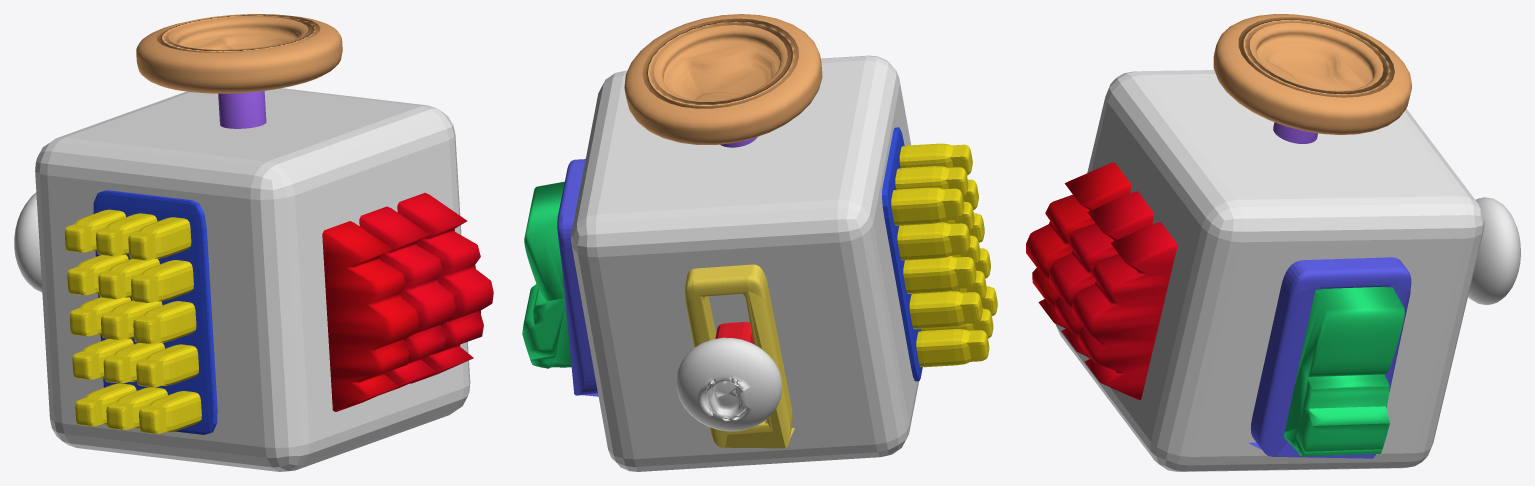
File: sole.glb
3 renders of one model, left to right at view 1: azimuth 30°, elevation 25°; view 2: azimuth 150°, elevation 25°; view 3: azimuth 270°, elevation 25°, orthographic. The views are drawn at different scales.
Visible parts, largest first — view 1: Roundcube, Cylinder.003, Cube.005, Cube.008, Cube.006, Cube.004, Cube.007, Cube.016, Cube.013, Cube.019, Cube.020, Sphere (+11 smaller); view 2: Roundcube, Cylinder.003, Sphere, Cube.025, Cube.002, Cube.001, Cube.008, Cube.010, Cube.022, Cube.017, Cube.011, Cube.014 (+4 smaller); view 3: Roundcube, Cylinder.003, Cube.002, Cube.006, Cube.001, Cube.004, Cube.005, Sphere, Cylinder.004.
Boxes of the visible parts, box(x1,y1,x2,y2) form: Roundcube: box(35, 88, 470, 471); Cylinder.003: box(136, 14, 342, 93); Cube.005: box(322, 221, 418, 411); Cube.008: box(93, 190, 217, 434); Cube.006: box(397, 193, 493, 383); Cube.004: box(359, 206, 455, 394); Cube.007: box(128, 217, 191, 260); Cube.016: box(133, 301, 196, 343); Cube.013: box(131, 260, 193, 302); Cube.019: box(136, 344, 198, 387); Cube.020: box(139, 391, 201, 433); Sphere: box(14, 192, 42, 292); Roundcube: box(571, 55, 918, 471); Cylinder.003: box(624, 14, 822, 144); Sphere: box(676, 337, 782, 431); Cube.025: box(684, 264, 794, 448); Cube.002: box(522, 181, 571, 368); Cube.001: box(557, 159, 598, 396); Cube.008: box(882, 127, 922, 381); Cube.010: box(891, 187, 964, 225); Cube.022: box(916, 329, 989, 367); Cube.017: box(909, 291, 982, 329); Cube.011: box(897, 222, 970, 260); Cube.014: box(903, 256, 976, 293); Roundcube: box(1055, 70, 1484, 471); Cylinder.003: box(1213, 14, 1411, 134); Cube.002: box(1283, 286, 1404, 456); Cube.006: box(1072, 222, 1177, 399); Cube.001: box(1248, 257, 1411, 458); Cube.004: box(1049, 191, 1153, 357); Cube.005: box(1026, 162, 1131, 328); Sphere: box(1468, 197, 1520, 305); Cylinder.004: box(1273, 122, 1317, 143).
Bounding box in the file's own units: 3.02 × 2.87 × 3.19.
